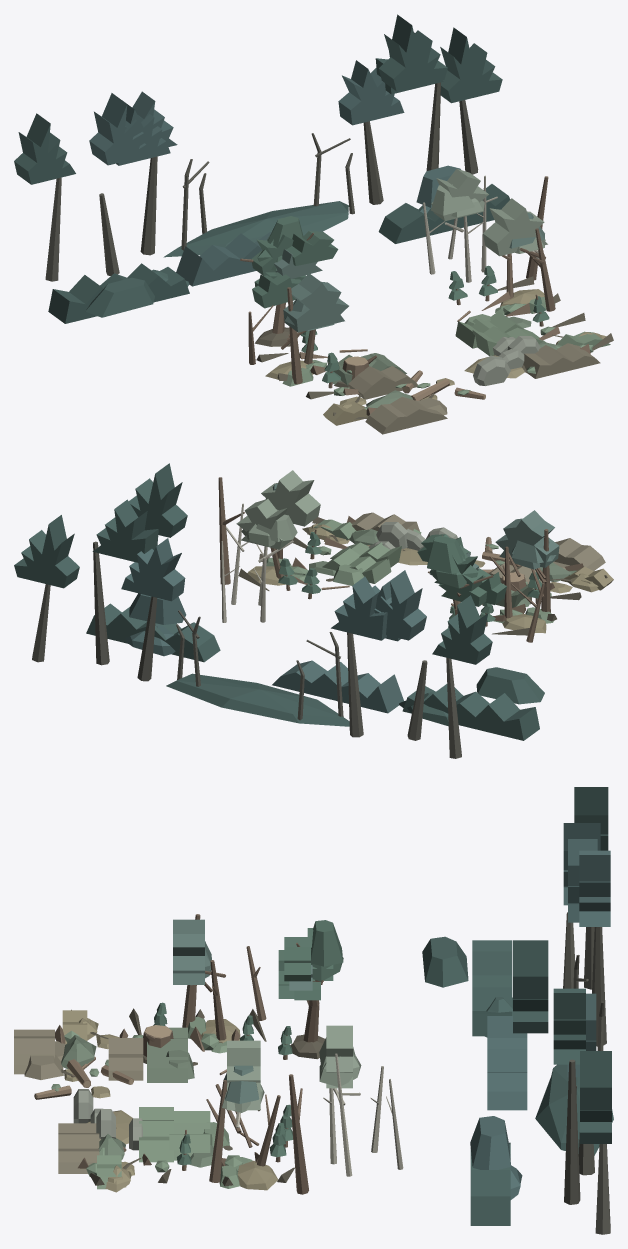
The model's file is urman_kara_forest_edge_kit.glb.
3 renders of one model, top to bottom at view 1: azimuth 30°, elevation 25°; view 2: azimuth 150°, elevation 25°; view 3: azimuth 270°, elevation 25°, orthographic. The views are drawn at different scales.
Visible parts, largest first — view 1: DistantForestMass_Tall, DistantForestMass_Low, ForestBank_Left, CrookedPineMass, ForestBank_Right, MixedTreeCluster_Right, MixedTreeCluster_Left, BirchEdgeMass, DistantForestMass_Tall_FarGroundBreak, MossyBoulderCluster, DistantForestMass_Tall_BrokenCrown_00_LOD0, FallenLogCluster (+1 smaller); view 2: DistantForestMass_Tall, DistantForestMass_Low, DistantForestMass_Tall_FarGroundBreak, MixedTreeCluster_Left, ForestBank_Right, CrookedPineMass, BirchEdgeMass, MixedTreeCluster_Right, DistantForestMass_Tall_BrokenCrown_01_LOD0, ForestBank_Left, MossyBoulderCluster, MixedTreeCluster_Left_GroundPocket (+2 smaller); view 3: DistantForestMass_Tall, DistantForestMass_Low, ForestBank_Left, ForestBank_Right, MixedTreeCluster_Right, CrookedPineMass, MixedTreeCluster_Left, BirchEdgeMass, DistantForestMass_Tall_BrokenCrown_01_LOD0, DistantForestMass_Tall_FarGroundBreak, MossyBoulderCluster, DistantForestMass_Tall_BrokenCrown_00_LOD0 (+3 smaller).
Part boxes in pixels (box(x1,y1,x2,y2)): DistantForestMass_Tall: box(14, 14, 502, 281); DistantForestMass_Low: box(48, 165, 510, 323); ForestBank_Left: box(299, 349, 447, 434); CrookedPineMass: box(240, 216, 338, 336); ForestBank_Right: box(455, 291, 600, 378); MixedTreeCluster_Right: box(479, 176, 555, 322); MixedTreeCluster_Left: box(248, 273, 348, 384); BirchEdgeMass: box(423, 168, 497, 300); DistantForestMass_Tall_FarGroundBreak: box(163, 201, 348, 257); MossyBoulderCluster: box(473, 336, 559, 385); DistantForestMass_Tall_BrokenCrown_00_LOD0: box(116, 104, 170, 165); FallenLogCluster: box(395, 370, 485, 400); DistantForestMass_Tall: box(14, 463, 492, 758); DistantForestMass_Low: box(86, 593, 544, 740); DistantForestMass_Tall_FarGroundBreak: box(166, 673, 349, 726); MixedTreeCluster_Left: box(480, 510, 559, 642); ForestBank_Right: box(281, 512, 420, 589); CrookedPineMass: box(417, 534, 506, 627); BirchEdgeMass: box(221, 499, 321, 622); MixedTreeCluster_Right: box(218, 470, 322, 585); DistantForestMass_Tall_BrokenCrown_01_LOD0: box(92, 499, 158, 562); ForestBank_Left: box(451, 538, 605, 621); MossyBoulderCluster: box(354, 522, 457, 550); MixedTreeCluster_Left_GroundPocket: box(502, 614, 546, 633); DistantForestMass_Tall: box(513, 787, 611, 1234); DistantForestMass_Low: box(422, 936, 527, 1225); ForestBank_Left: box(14, 1025, 240, 1082); ForestBank_Right: box(58, 1107, 259, 1176); MixedTreeCluster_Right: box(177, 1040, 308, 1194); CrookedPineMass: box(278, 920, 343, 1055); MixedTreeCluster_Left: box(153, 914, 266, 1040); BirchEdgeMass: box(280, 1025, 403, 1176); DistantForestMass_Tall_BrokenCrown_01_LOD0: box(553, 988, 585, 1064); DistantForestMass_Tall_FarGroundBreak: box(535, 1064, 613, 1155); MossyBoulderCluster: box(73, 1089, 142, 1155); DistantForestMass_Tall_BrokenCrown_00_LOD0: box(568, 839, 597, 922).
Bounding box in the file's own units: 27.84 × 11.08 × 25.17.
